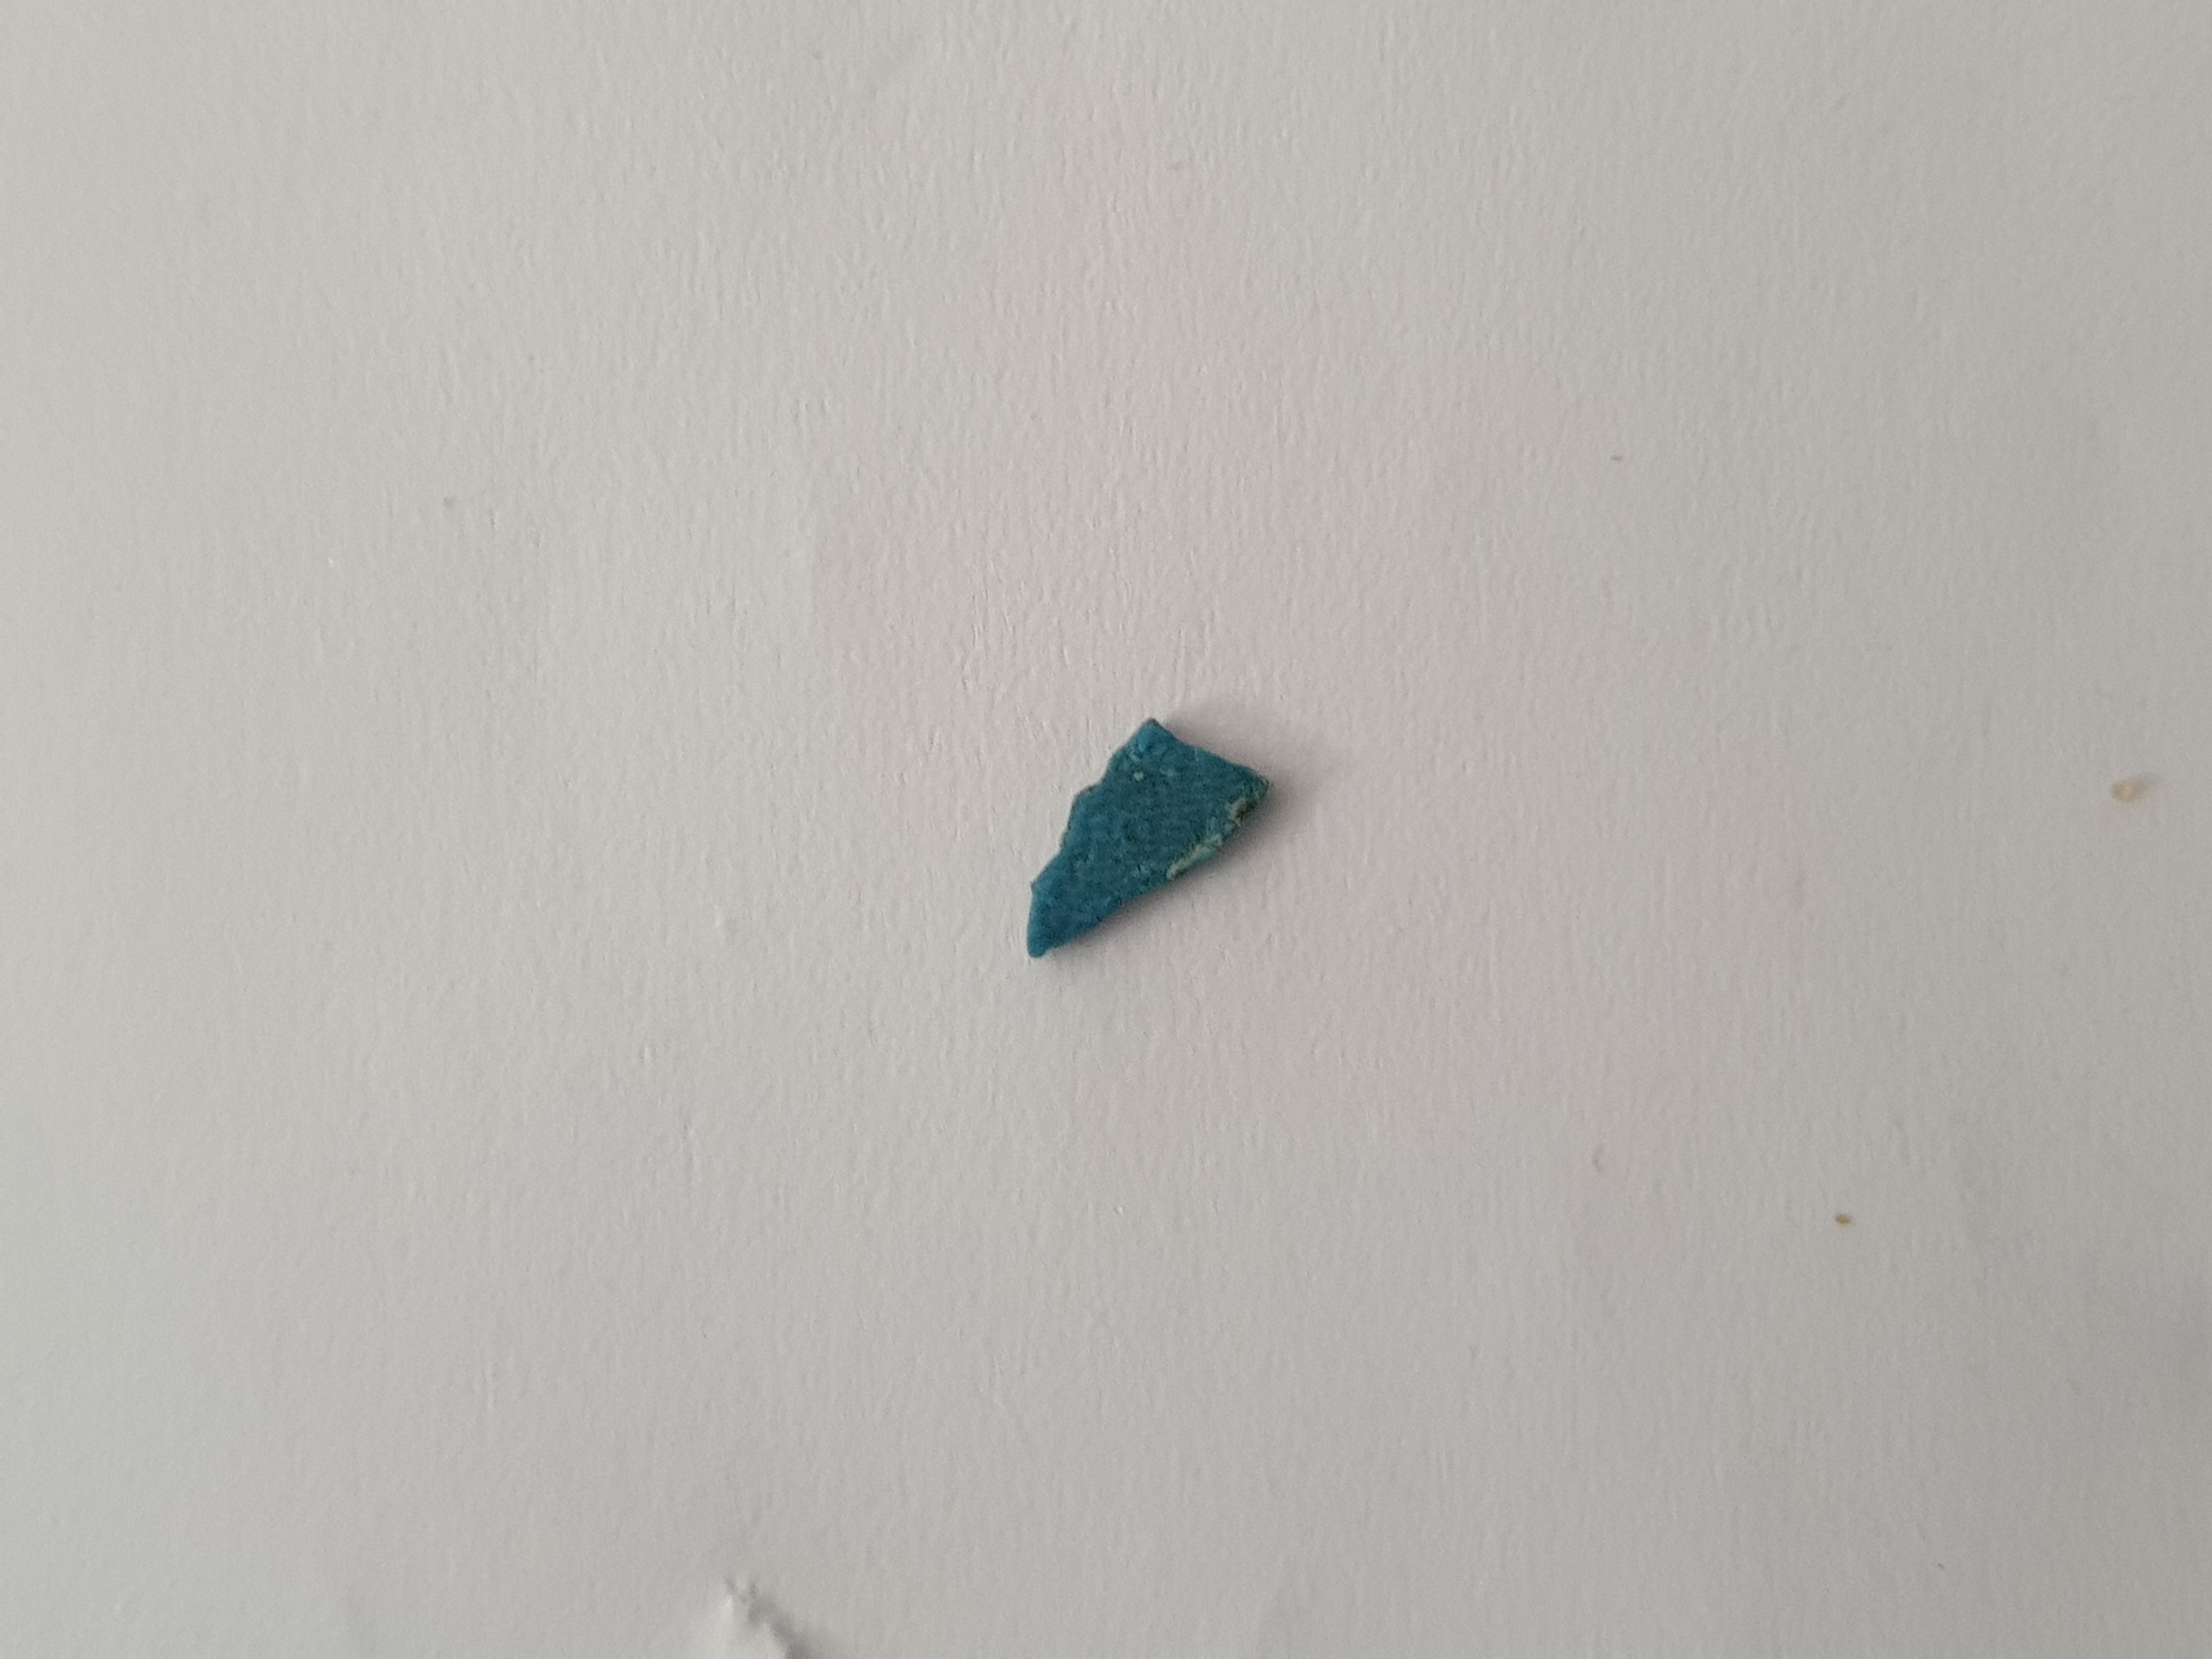plastic: (981, 694, 1303, 965)
